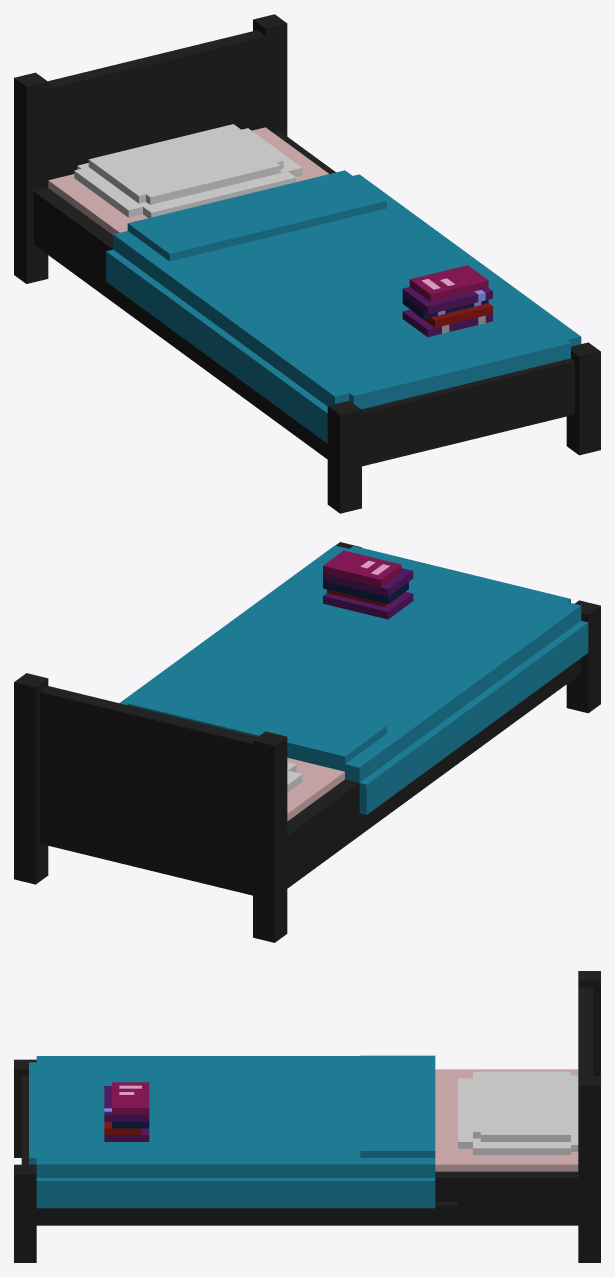
Rendered from Bed.obj.
The picture shows the model from 3 angles, top to bottom: view 1: azimuth 30°, elevation 25°; view 2: azimuth 150°, elevation 25°; view 3: azimuth 270°, elevation 25°; orthographic projection. The views are drawn at different scales.
Size of the model in its own units: 3.6 by 2.6 by 7.8.
1 material, 1 textured.
